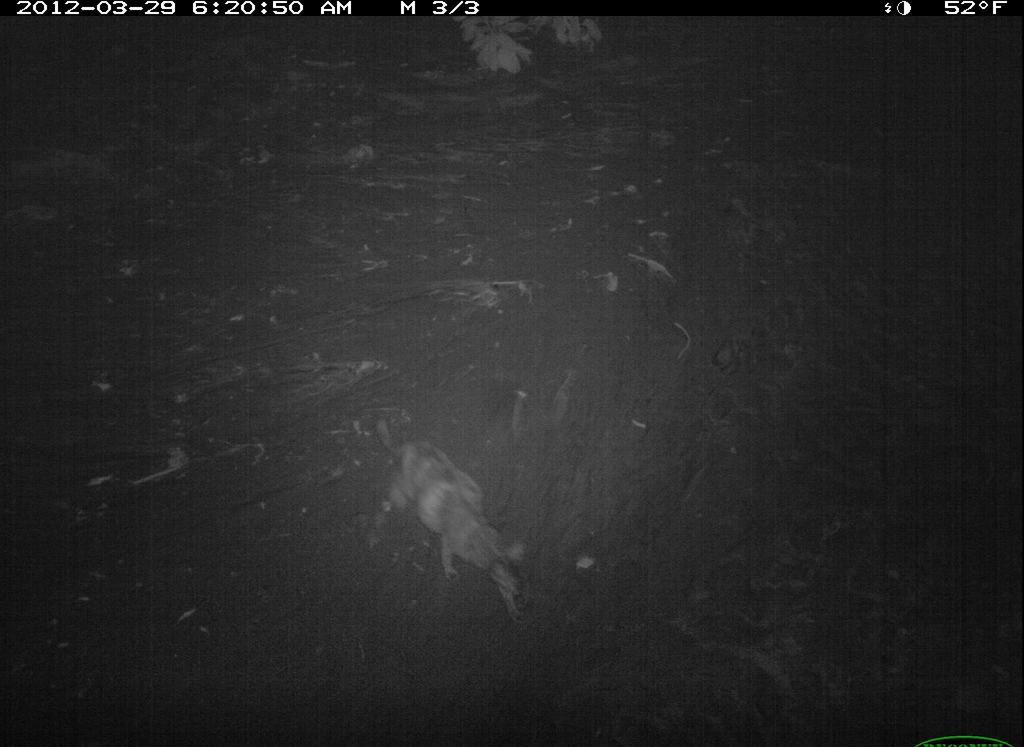cat: (373, 417, 524, 611)
